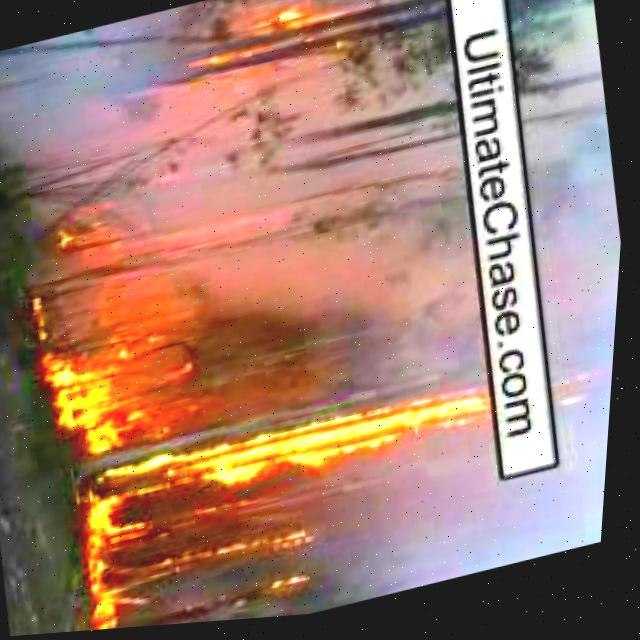Fire: (73, 374, 500, 532), (43, 312, 164, 473), (190, 0, 342, 96), (77, 528, 168, 634), (182, 527, 326, 581), (44, 212, 125, 258), (260, 576, 320, 603), (445, 0, 514, 8)
Smoke: (117, 29, 502, 441), (490, 22, 637, 563), (0, 6, 214, 238)
